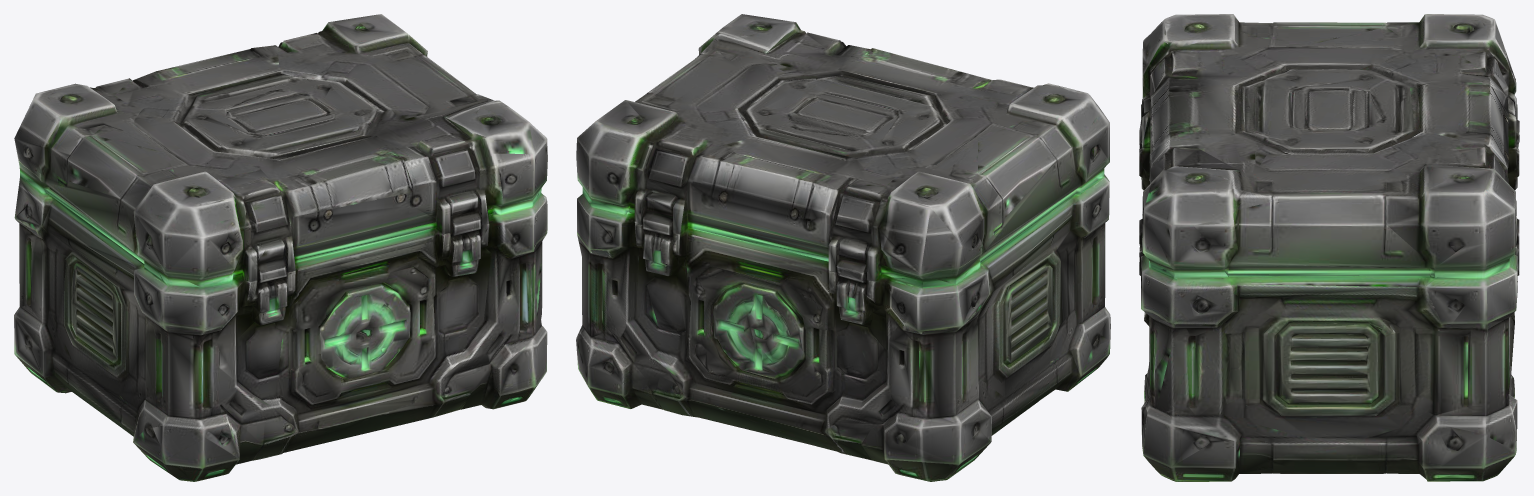
Rendered from storage-crate.glb.
3 views of the same model, side by side, from view 1: azimuth 30°, elevation 25°; view 2: azimuth 150°, elevation 25°; view 3: azimuth 270°, elevation 25° (orthographic). The views are drawn at different scales.
Visible parts, largest first — view 1: material; view 2: material; view 3: material.
Boxes of the visible parts, box(x1,y1,x2,y2) form: material: box(14, 14, 547, 481); material: box(576, 14, 1110, 481); material: box(1139, 14, 1519, 481).
Size of the model in its own units: 0.9013 by 0.6195 by 0.7327.
1 material, 1 textured.
